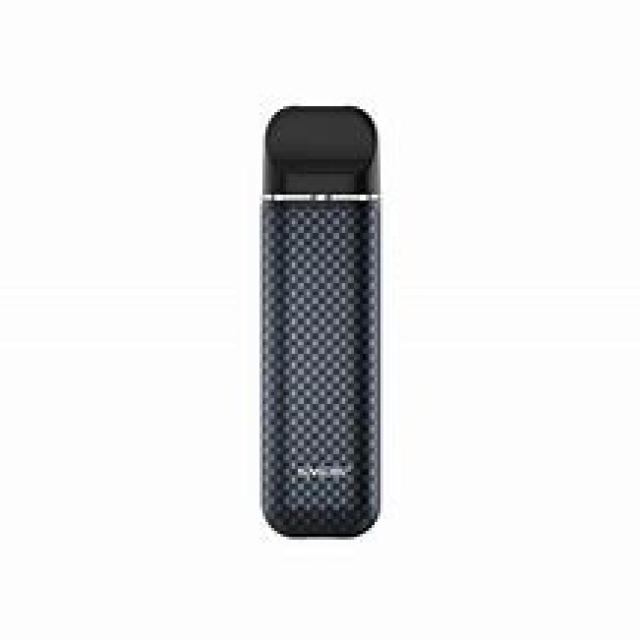Vapes: (256, 100, 381, 537)
